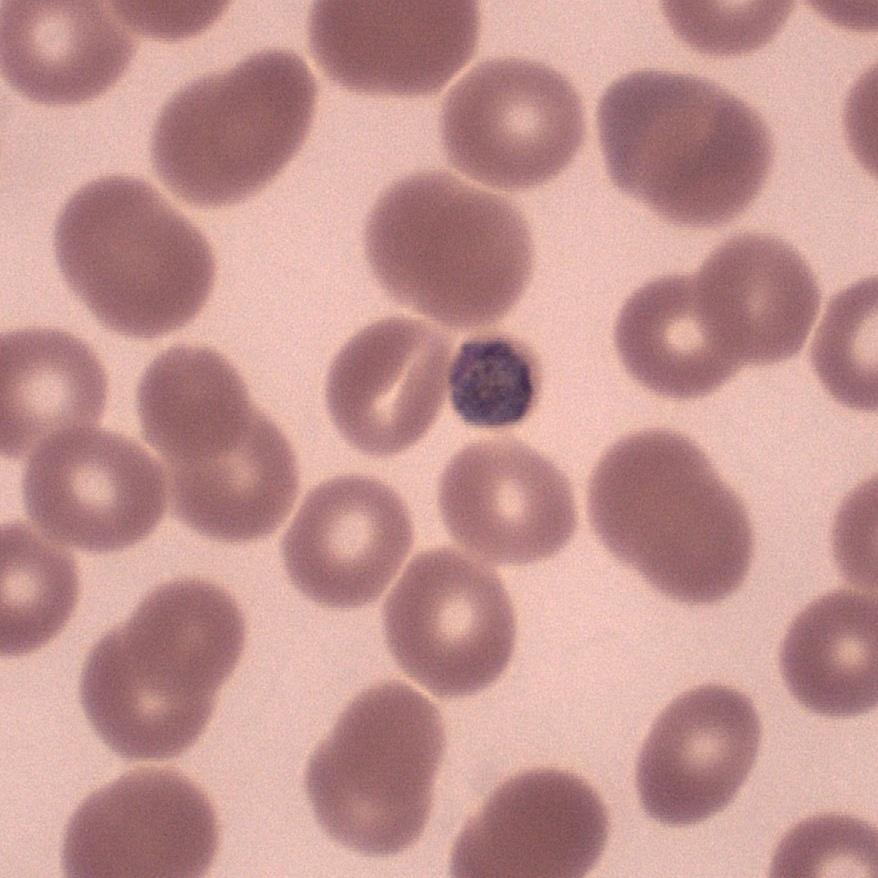Infected: (443, 326, 543, 430)
Uninfected: (598, 66, 785, 221), (50, 173, 218, 340), (155, 51, 325, 206), (363, 166, 523, 328), (440, 53, 593, 196), (278, 471, 423, 616), (632, 676, 762, 832), (20, 426, 175, 556), (435, 443, 585, 571), (385, 546, 515, 688), (57, 771, 222, 878), (450, 766, 607, 878), (610, 263, 735, 403), (70, 636, 210, 758), (0, 321, 108, 476), (585, 423, 710, 555), (320, 316, 445, 446), (697, 236, 817, 371), (180, 416, 308, 540), (310, 0, 480, 93), (630, 481, 750, 606), (130, 341, 250, 465), (325, 673, 430, 801), (315, 741, 428, 850), (120, 576, 230, 686), (772, 591, 870, 713)
